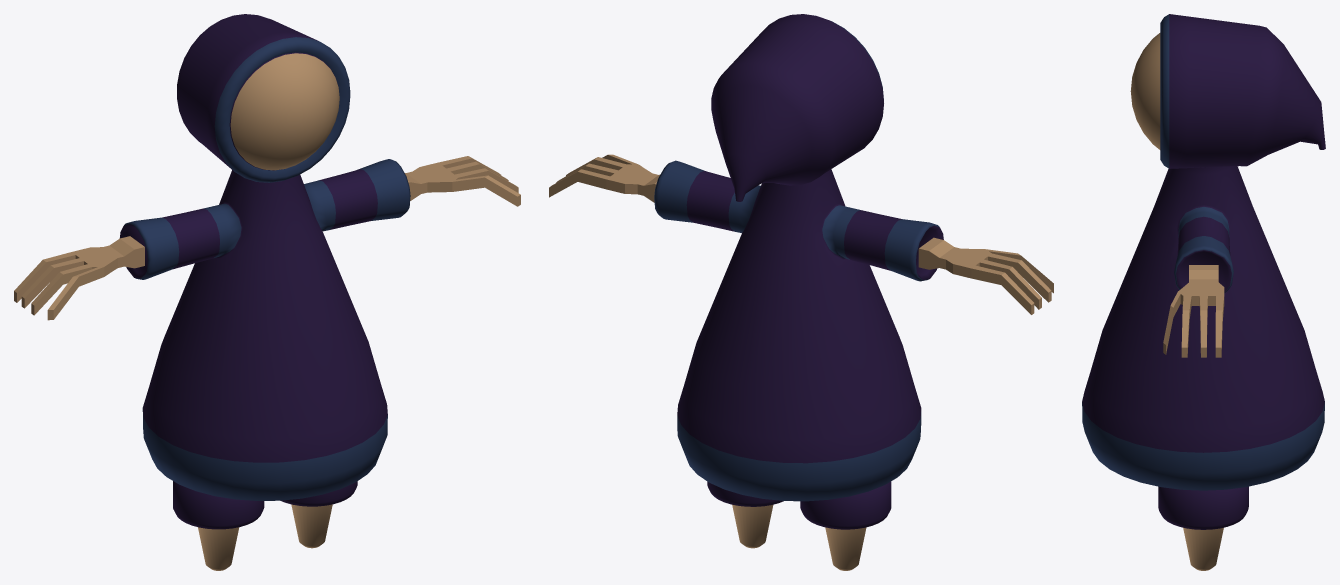
Rendered from PlayerCharacter.fbx.
3 renders of one model, left to right at view 1: azimuth 30°, elevation 25°; view 2: azimuth 150°, elevation 25°; view 3: azimuth 270°, elevation 25°, orthographic.
Visible parts, largest first — view 1: Cylinder.001; view 2: Cylinder.001; view 3: Cylinder.001.
Boxes of the visible parts, bbox=[...] form: Cylinder.001: bbox=[14, 14, 520, 570]; Cylinder.001: bbox=[549, 14, 1053, 570]; Cylinder.001: bbox=[1082, 14, 1325, 570].
Bounding box in the file's own units: 559 × 584 × 246.
